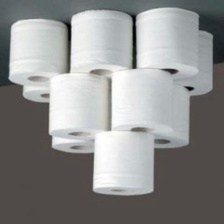tissue: (131, 3, 204, 81), (63, 5, 136, 83), (87, 124, 160, 202), (105, 64, 177, 139), (3, 15, 74, 89), (44, 68, 113, 144), (154, 25, 218, 100), (137, 81, 194, 154), (45, 129, 99, 158), (17, 79, 70, 107)
